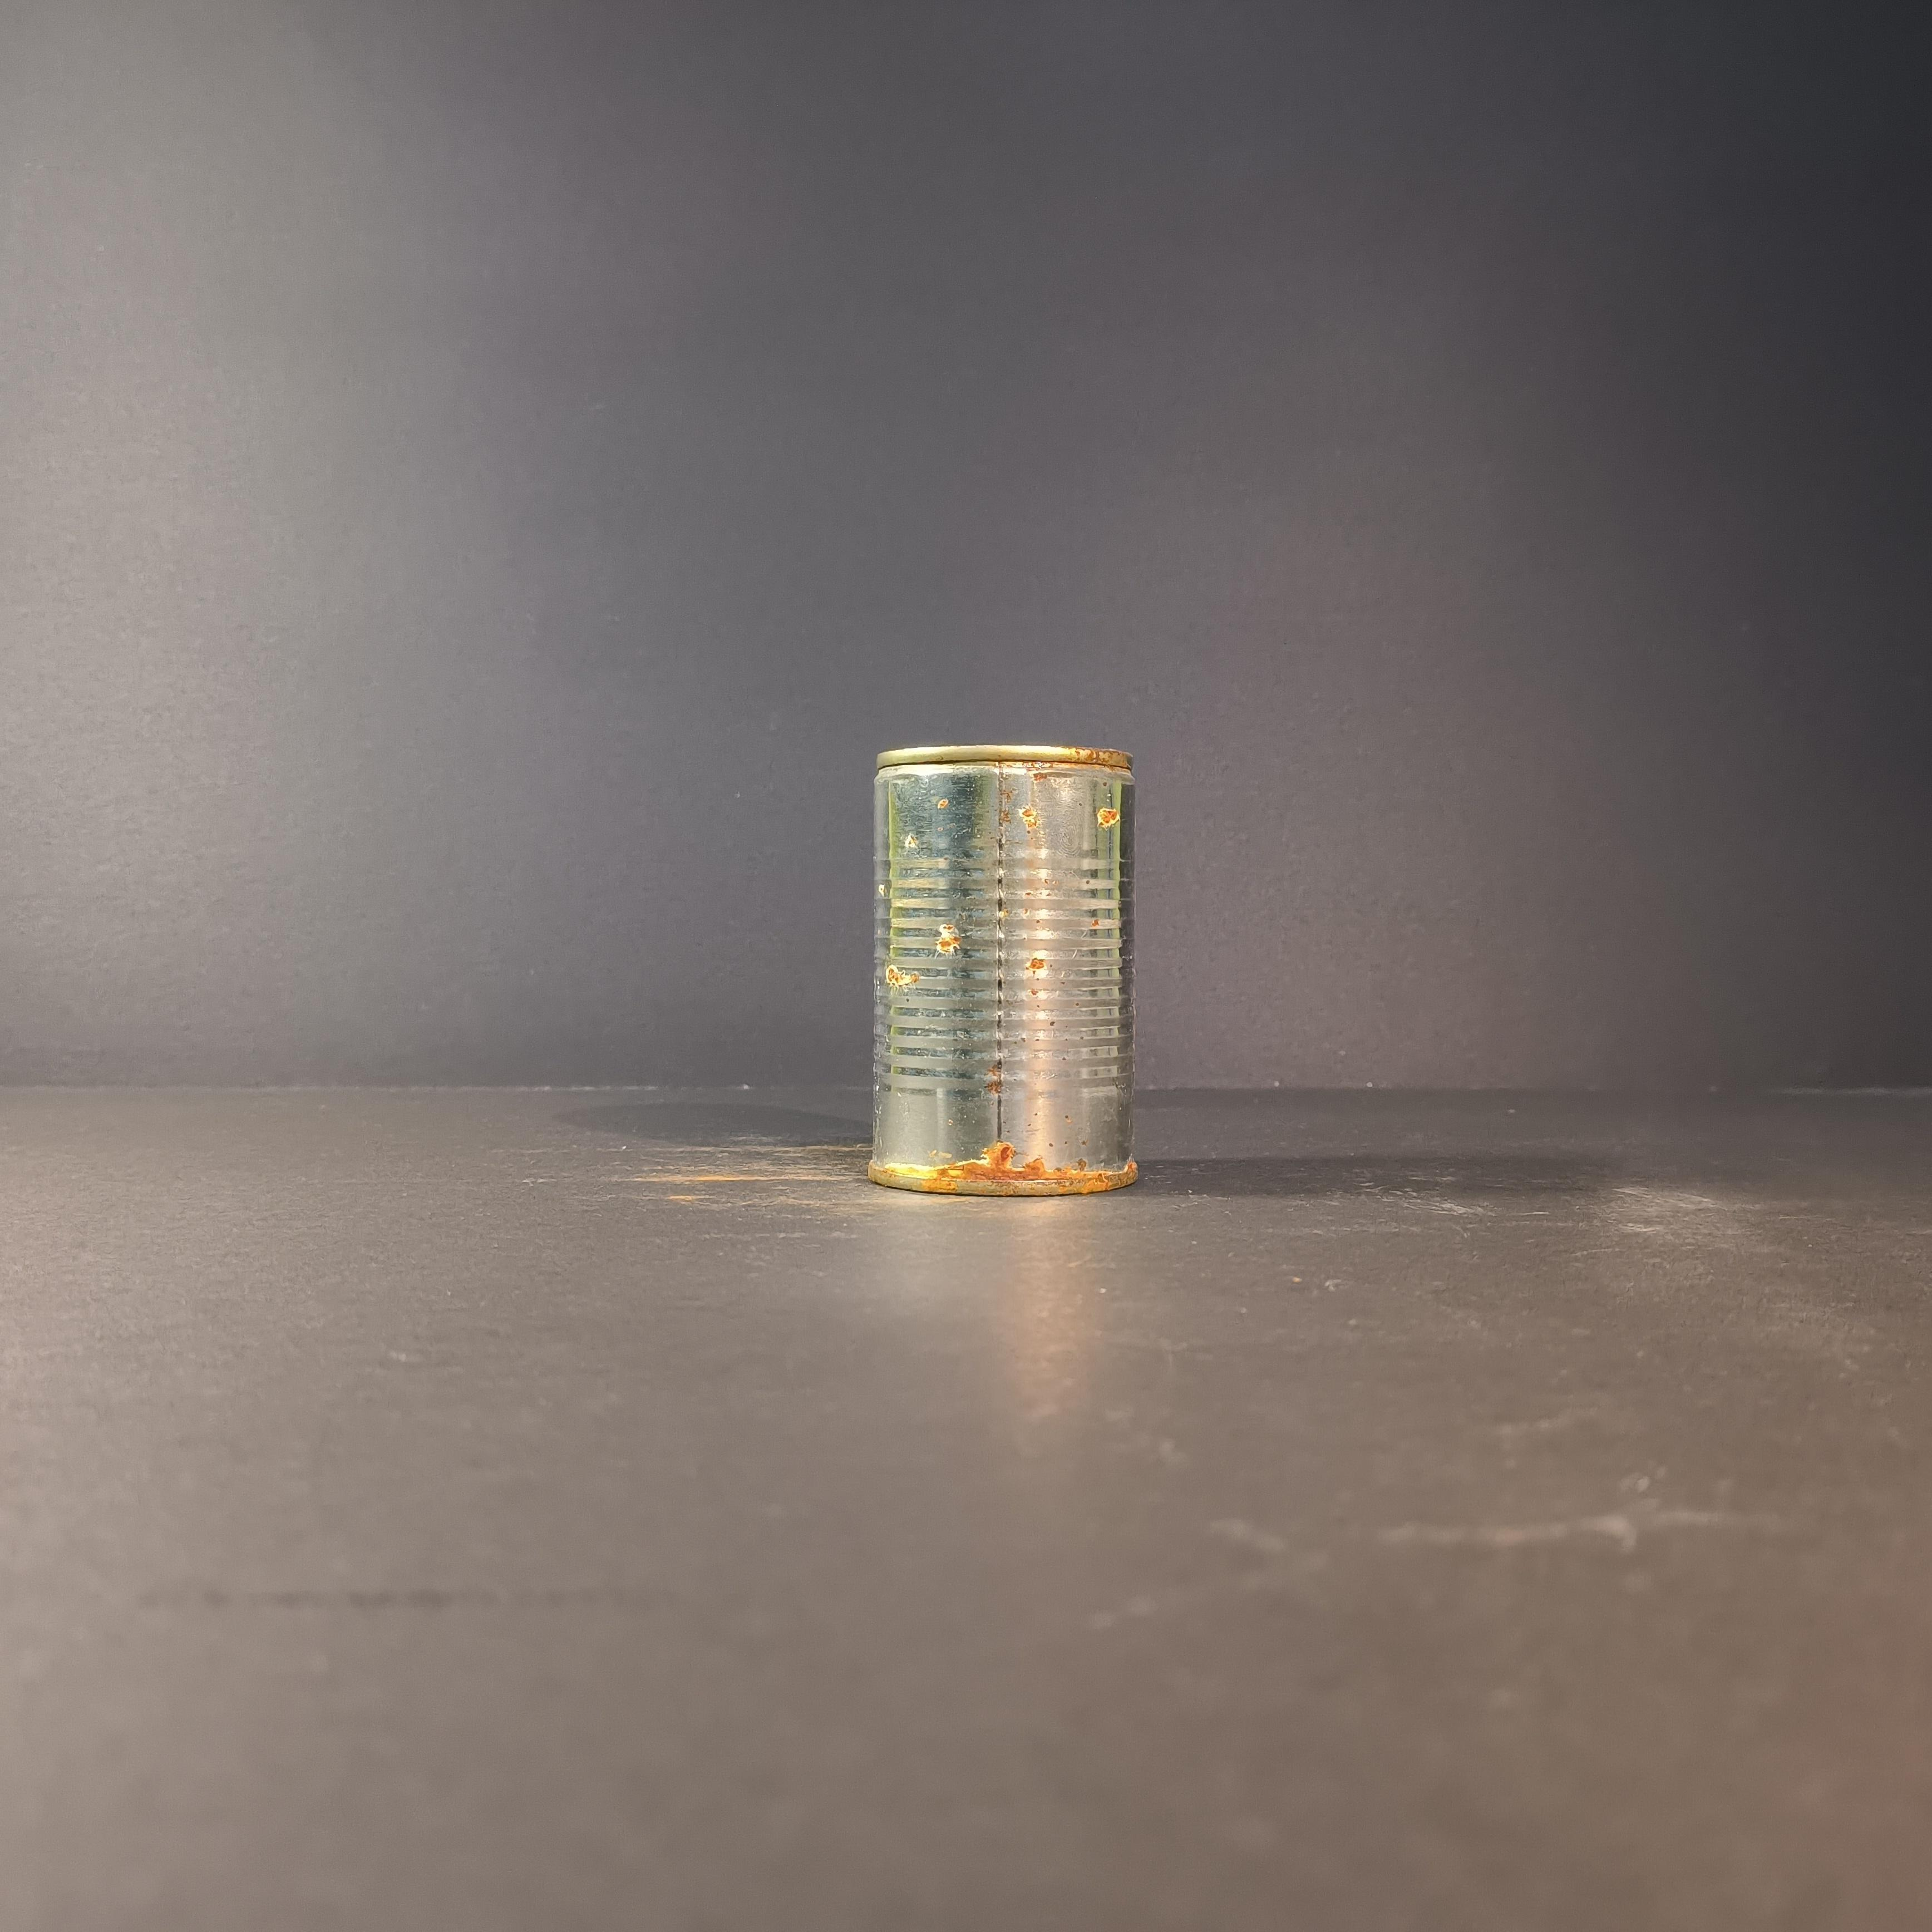Rusted: (854, 701, 1163, 1199)
